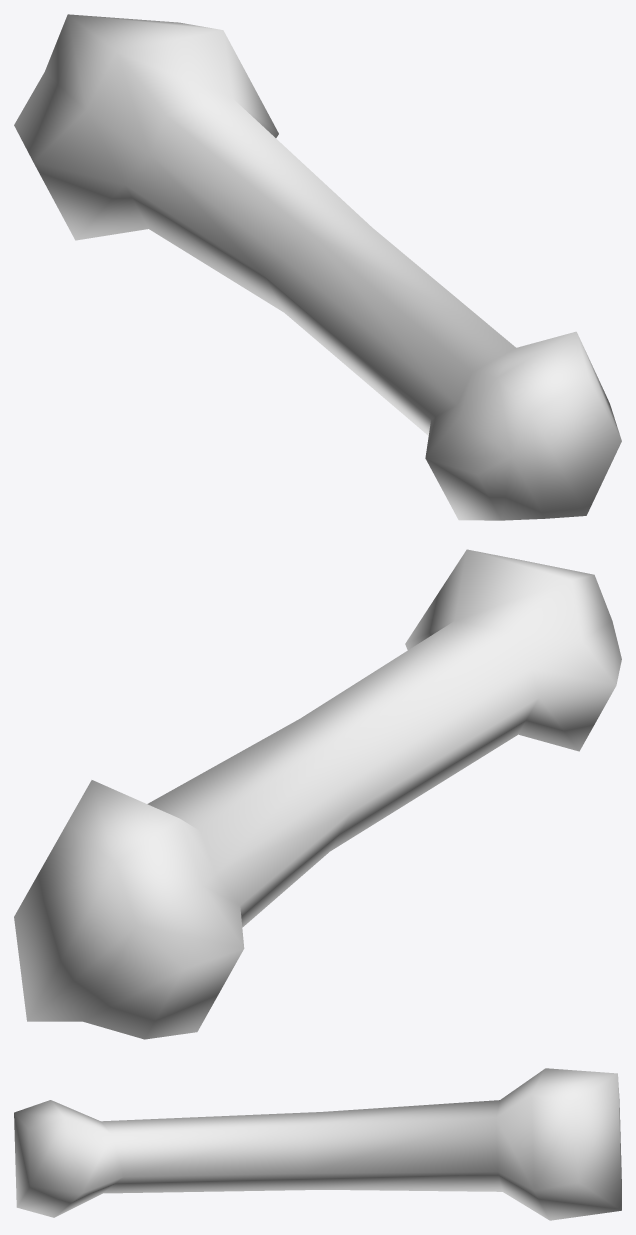
File: Bone_1.fbx
3 renders of one model, top to bottom at view 1: azimuth 30°, elevation 25°; view 2: azimuth 150°, elevation 25°; view 3: azimuth 270°, elevation 25°, orthographic. The views are drawn at different scales.
Parts seen in each view (by area): view 1: Bone_1; view 2: Bone_1; view 3: Bone_1.
Boxes of the visible parts, box(x1,y1,x2,y2) form: Bone_1: box(14, 14, 621, 520); Bone_1: box(14, 549, 621, 1039); Bone_1: box(14, 1068, 621, 1220).
Bounding box in the file's own units: 3.58 × 3.06 × 12.77.
